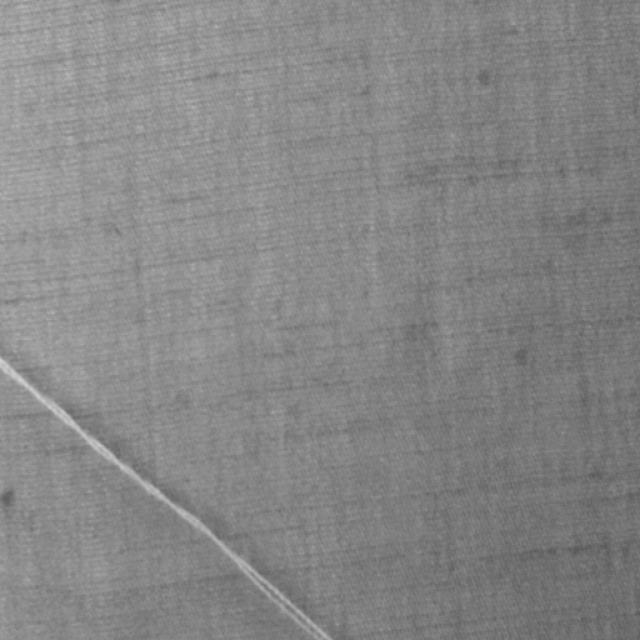objects: (0, 348, 337, 638)
